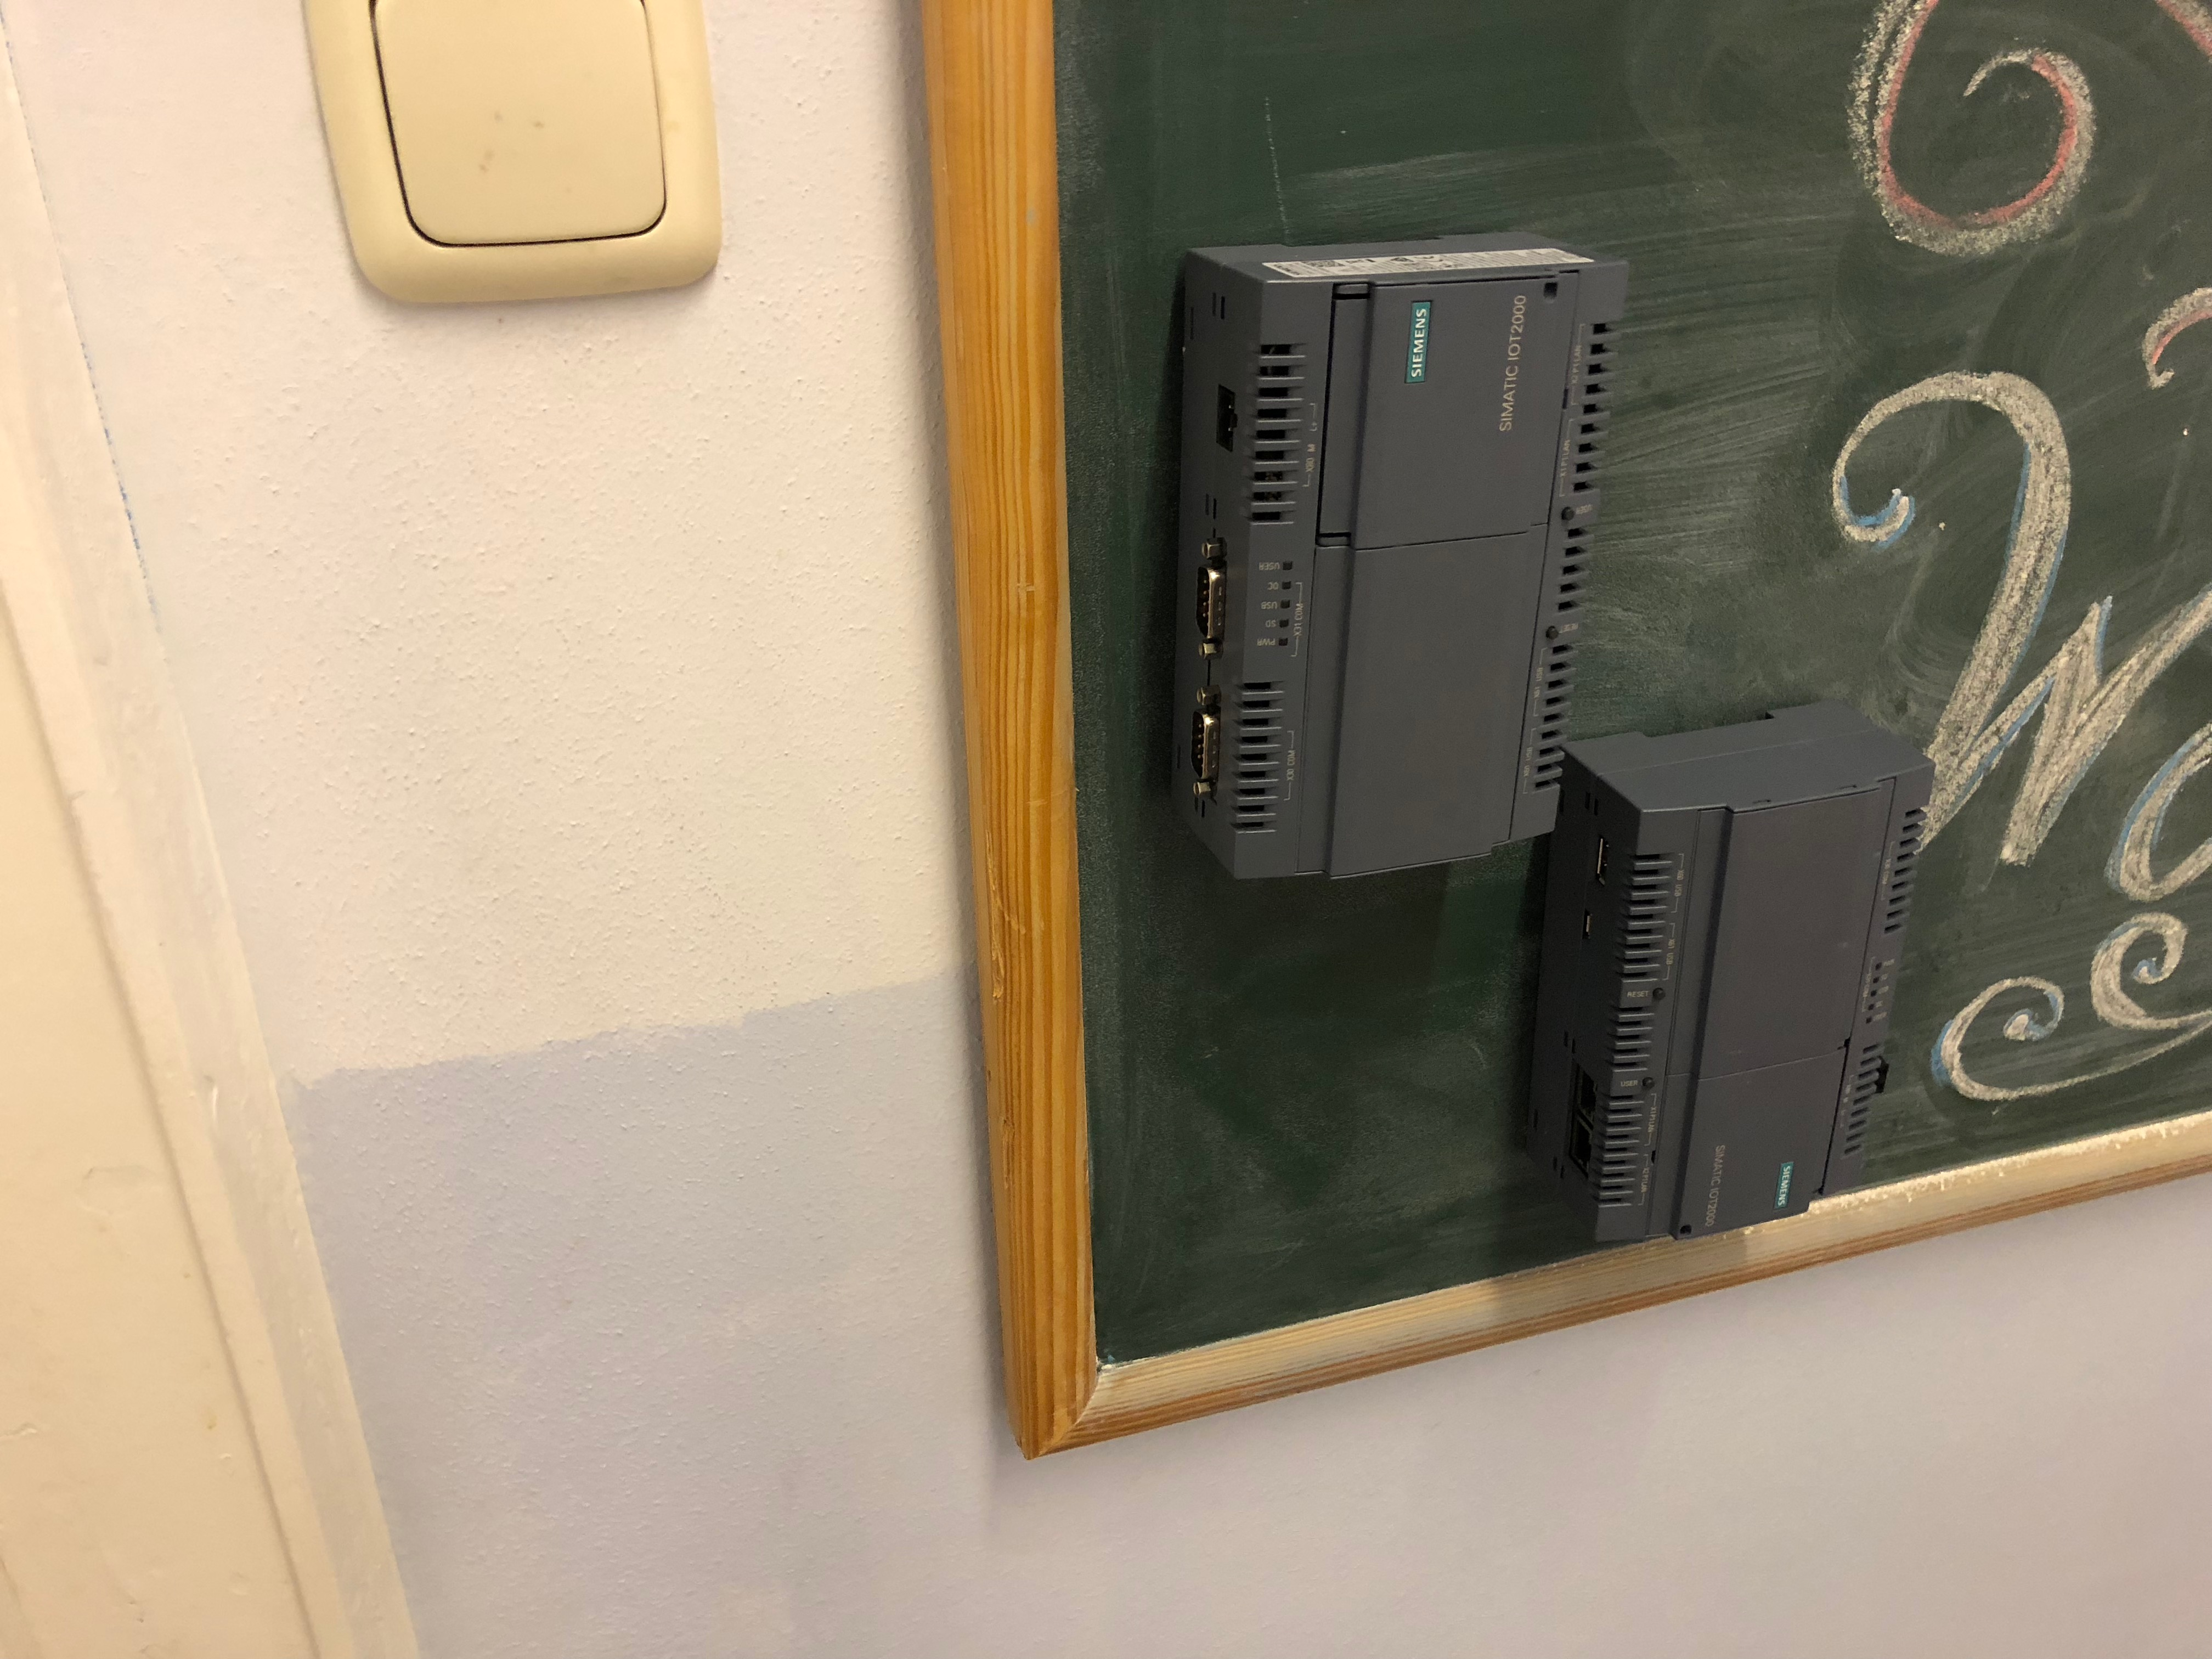device: (1170, 232, 1629, 880), (1524, 701, 1937, 1243)
